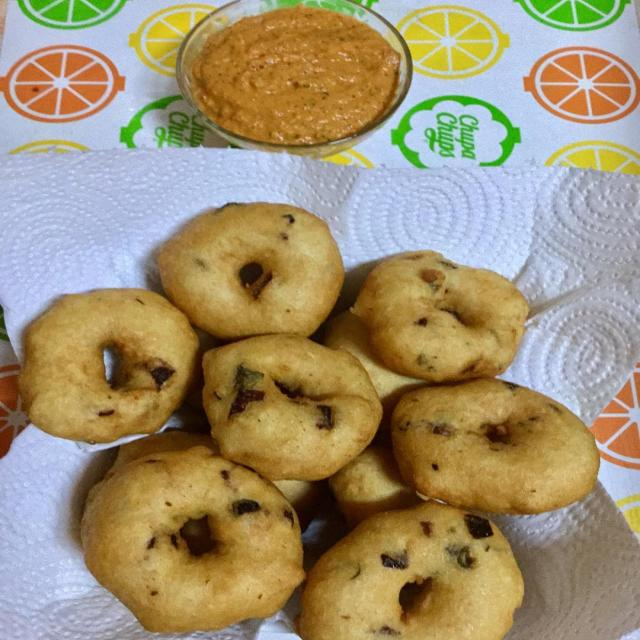Wet Waste: (88, 452, 298, 624), (202, 339, 383, 491), (394, 384, 599, 518), (299, 511, 507, 640), (155, 212, 343, 339), (24, 297, 194, 436), (348, 248, 520, 378)
